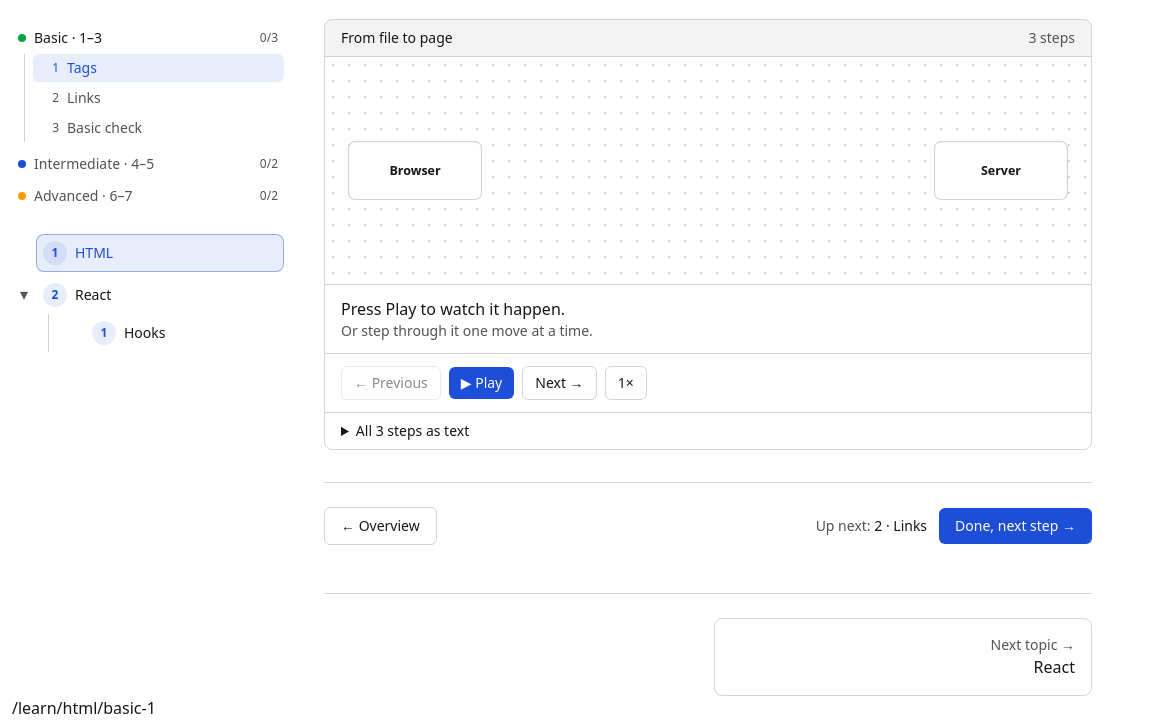
Test: StepPlayer › marks the step done and moves on, with focus on the next title
The image size is (1164, 720).
(page scrolled)
Expected: the text "2 · Links" is shown, [874,516,927,535]
Click the button "Done, next step →": (1016, 526) [939,508,1092,544]
(page scrolled)
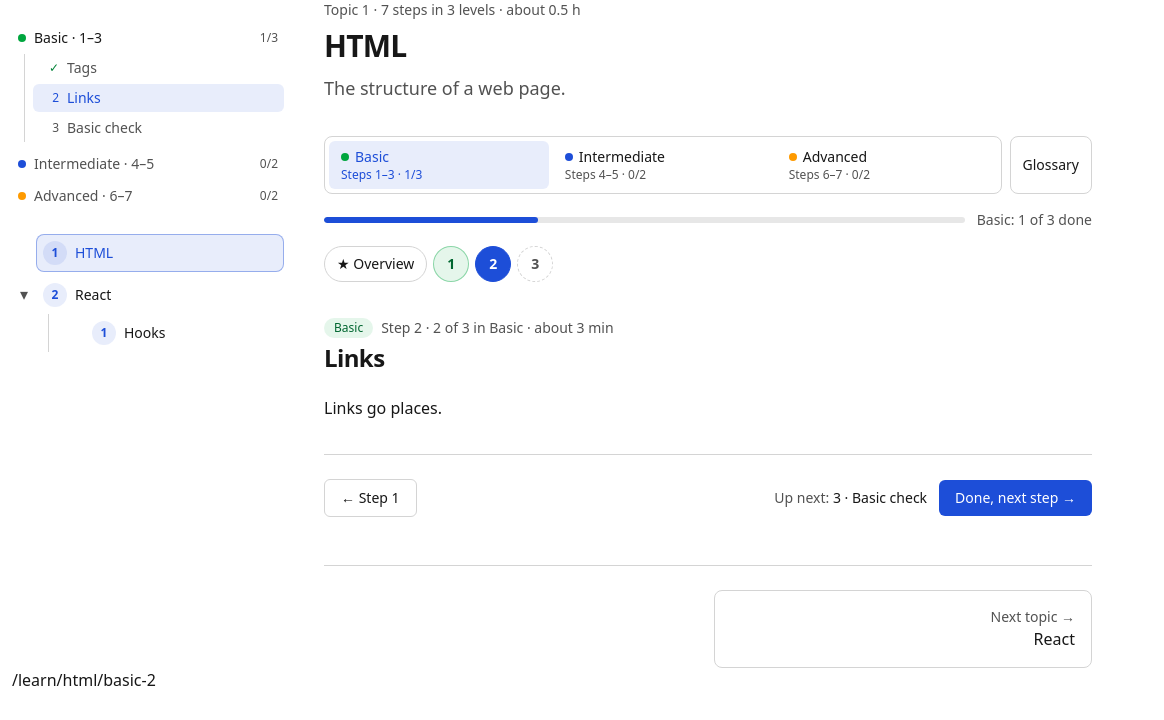
Expected: the text with test id "where" reads "/learn/html/basic-2", [12,669,156,691]
Expected: the link named "Step 1: Tags (done)" is shown, [433,246,469,282]
